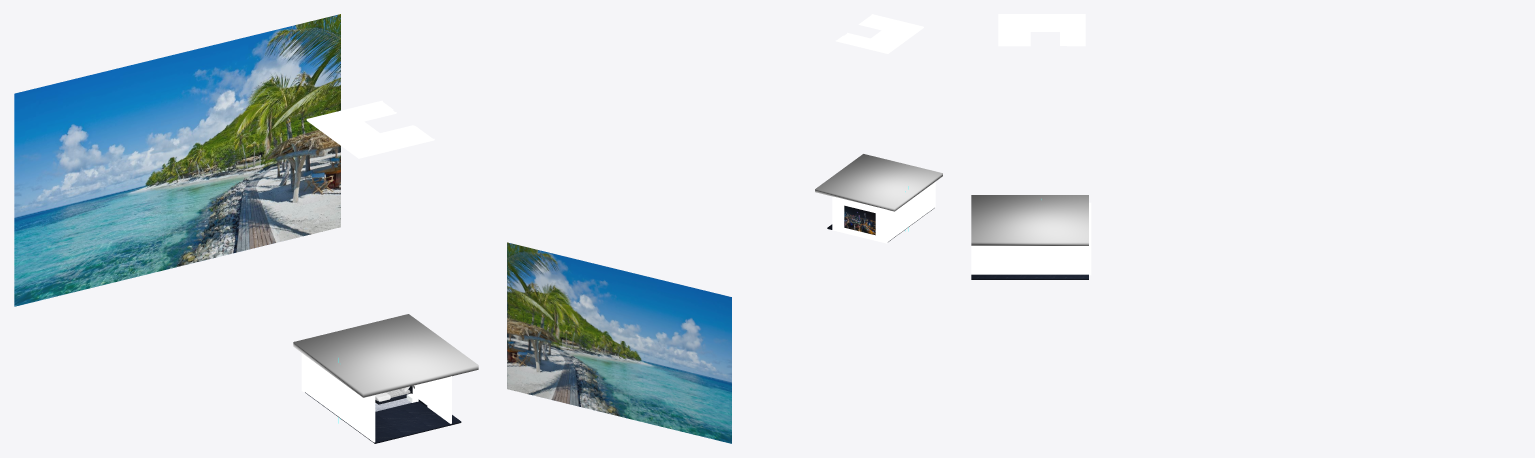
File: badroom1.glb
The picture shows the model from 3 angles, left to right: view 1: azimuth 30°, elevation 25°; view 2: azimuth 150°, elevation 25°; view 3: azimuth 270°, elevation 25°; orthographic projection. The views are drawn at different scales.
Parts seen in each view (by area): view 1: Plane001, Box007, Rectangle027, Box003.001, Box001, Box002; view 2: Plane001, Box007, Rectangle027, Box003.001, Rectangle002, Plane.001; view 3: Box007, Box002, Rectangle027, Box001.
Boxes of the visible parts, x1,y1,x2,y2 form: Plane001: (14, 14, 340, 306); Box007: (293, 314, 478, 397); Rectangle027: (306, 100, 434, 158); Box003.001: (304, 354, 375, 442); Box001: (305, 392, 461, 443); Box002: (418, 376, 451, 423); Plane001: (507, 242, 731, 443); Box007: (815, 154, 942, 211); Rectangle027: (835, 14, 923, 53); Box003.001: (887, 182, 935, 241); Rectangle002: (832, 196, 887, 243); Plane.001: (844, 205, 875, 235); Box007: (971, 195, 1088, 245); Box002: (971, 246, 1088, 274); Rectangle027: (998, 14, 1085, 46); Box001: (971, 274, 1088, 279).
Bounding box in the file's own units: 847 × 917 × 1472.
67 materials, 31 textured.
